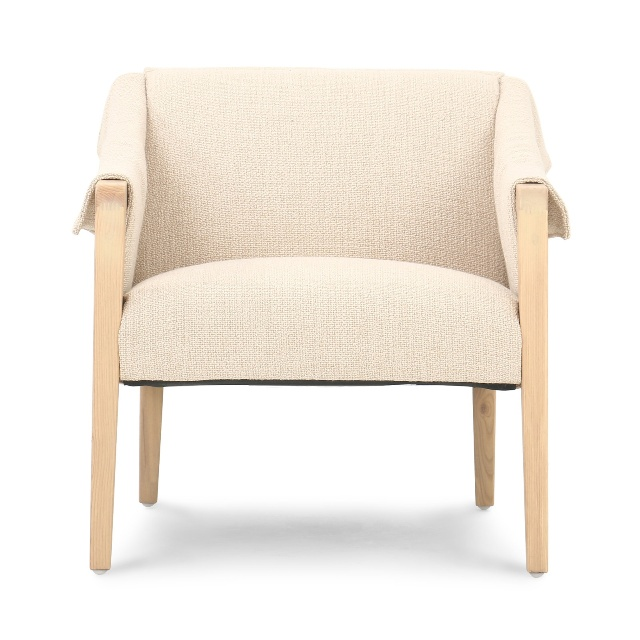obstacle: (75, 68, 569, 574)
